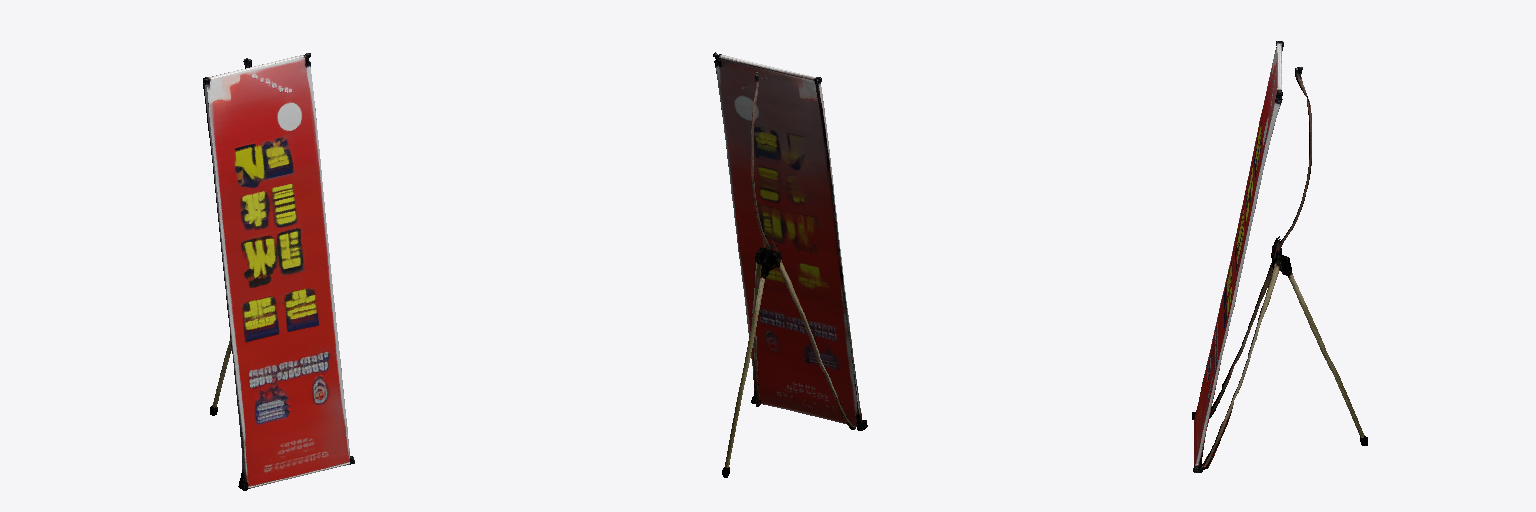
3 views of the same model, side by side, from view 1: azimuth 30°, elevation 25°; view 2: azimuth 150°, elevation 25°; view 3: azimuth 270°, elevation 25° (orthographic).
Visible parts, largest first — view 1: geometry_0; view 2: geometry_0; view 3: geometry_0.
Part boxes in pixels (left/top/right/bottom): geometry_0: left=203, top=53, right=354, bottom=490; geometry_0: left=713, top=52, right=867, bottom=477; geometry_0: left=1192, top=41, right=1367, bottom=472.
Size of the model in its own units: 0.3106 by 1 by 0.4228.
Materials: 1 (1 with a texture image).